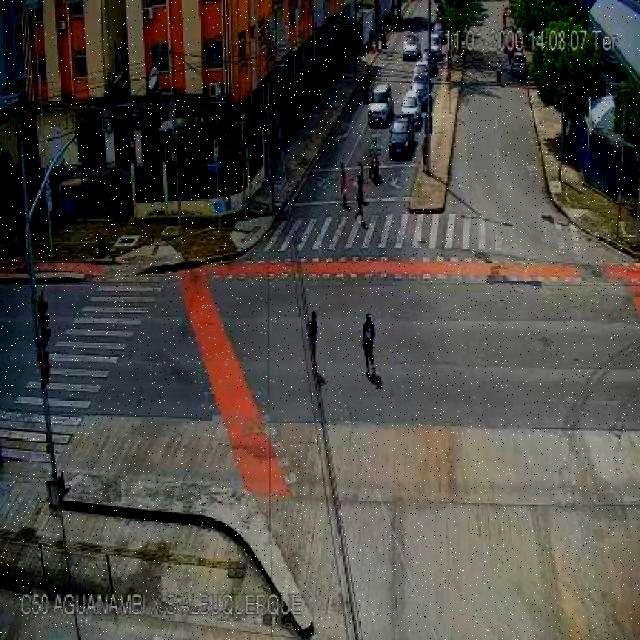Car: (387, 113, 419, 160), (366, 80, 392, 129), (398, 89, 419, 120), (508, 51, 529, 81), (412, 62, 430, 84)
Cycle: (363, 134, 386, 187)
